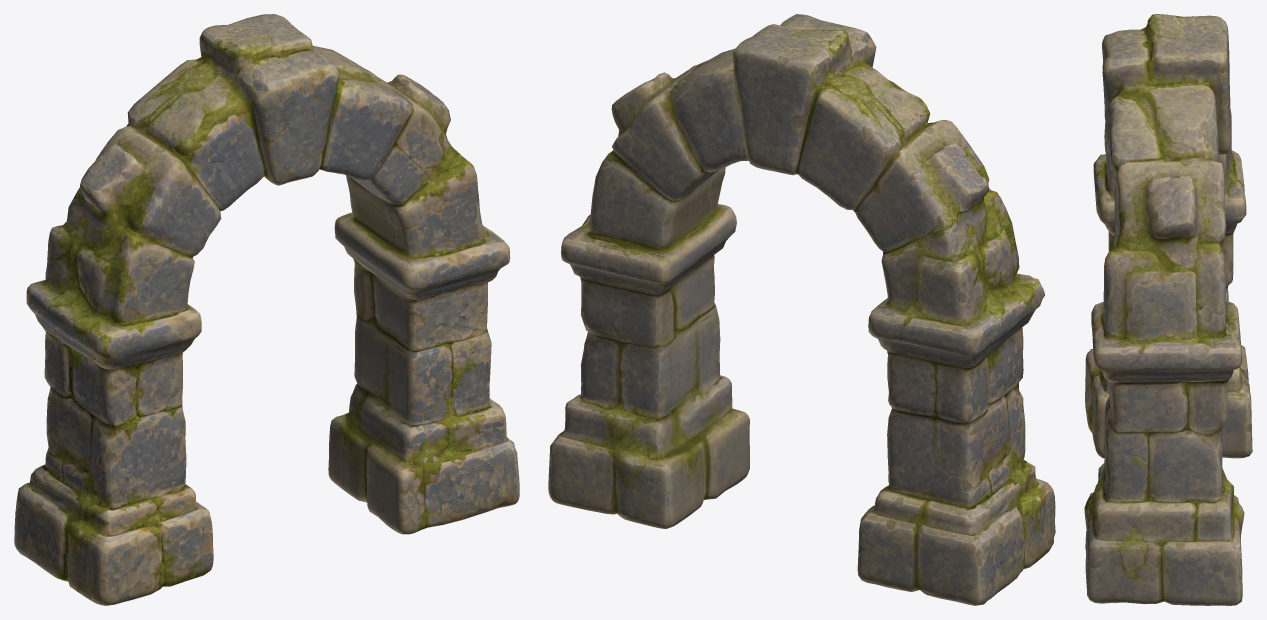
The model's file is ruin_arch.glb.
The picture shows the model from 3 angles, left to right: view 1: azimuth 30°, elevation 25°; view 2: azimuth 150°, elevation 25°; view 3: azimuth 270°, elevation 25°; orthographic projection. The views are drawn at different scales.
Visible parts, largest first — view 1: tripo_node_04ef3e82; view 2: tripo_node_04ef3e82; view 3: tripo_node_04ef3e82.
Boxes of the visible parts, x1,y1,x2,y2 form: tripo_node_04ef3e82: (14,14,519,605); tripo_node_04ef3e82: (548,14,1055,605); tripo_node_04ef3e82: (1084,14,1252,605).
Size of the model in its own units: 89.25 by 97.8 by 31.16.
1 material, 1 textured.
